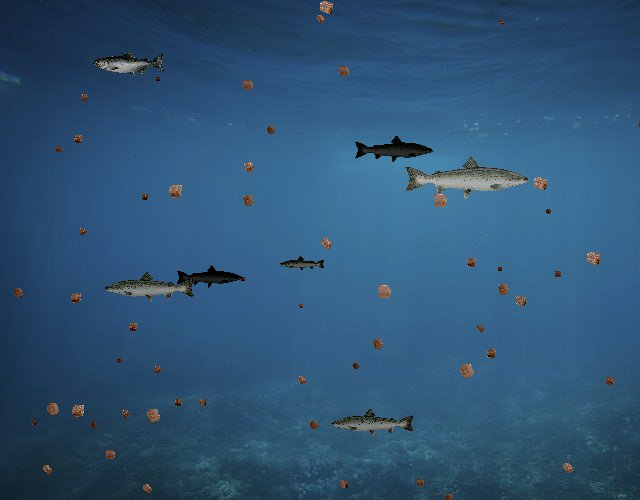Fish: (402, 154, 531, 200), (103, 271, 197, 305), (330, 407, 416, 438), (353, 134, 434, 163), (94, 50, 167, 77), (176, 264, 244, 289), (279, 256, 326, 272)
Pellet: (161, 178, 189, 206), (314, 232, 338, 256), (236, 188, 260, 212), (237, 155, 260, 178), (8, 282, 29, 303), (74, 223, 90, 239), (542, 205, 555, 218), (27, 417, 39, 429)
